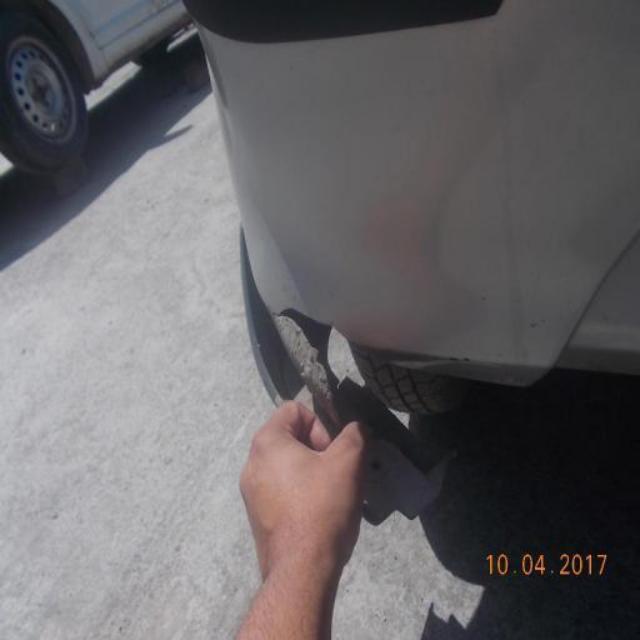dislocated part: (279, 308, 465, 531)
